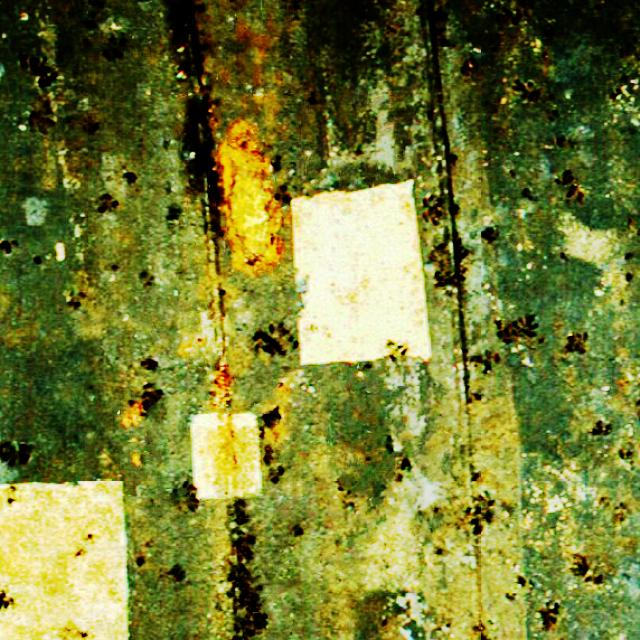Corrosion: (213, 119, 284, 274), (213, 358, 229, 410), (220, 420, 235, 473), (265, 406, 285, 445), (180, 336, 206, 356), (126, 401, 144, 427), (279, 379, 289, 393), (132, 453, 141, 468)
